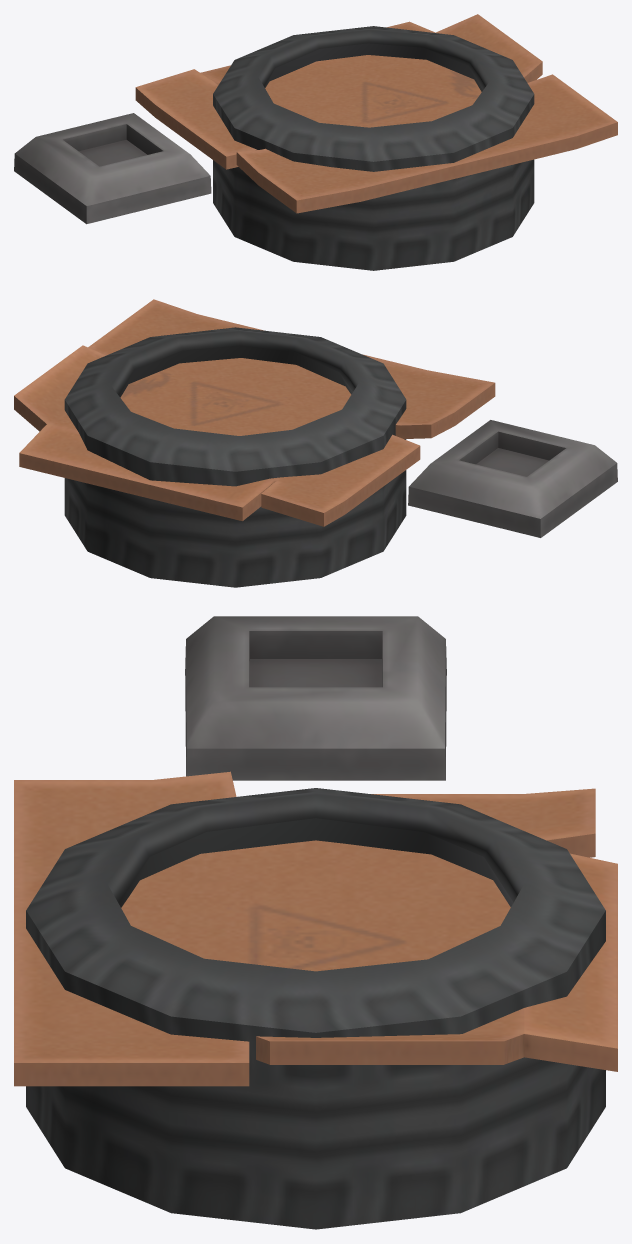
File: PetHouse.fbx
3 views of the same model, one above another, from view 1: azimuth 30°, elevation 25°; view 2: azimuth 150°, elevation 25°; view 3: azimuth 270°, elevation 25° (orthographic). The views are drawn at different scales.
Parts seen in each view (by area): view 1: Mat_Truck_02_01, Mat_PaperBox_02, Mat_Wall_01; view 2: Mat_Truck_02_01, Mat_PaperBox_02, Mat_Wall_01; view 3: Mat_Truck_02_01, Mat_PaperBox_02, Mat_Wall_01.
Boxes of the visible parts, <box> form: Mat_Truck_02_01: <box>213,26,534,270</box>; Mat_PaperBox_02: <box>135,14,617,213</box>; Mat_Wall_01: <box>14,113,211,224</box>; Mat_Truck_02_01: <box>64,327,406,587</box>; Mat_PaperBox_02: <box>14,299,495,526</box>; Mat_Wall_01: <box>408,420,617,537</box>; Mat_Truck_02_01: <box>26,788,605,1229</box>; Mat_PaperBox_02: <box>14,771,617,1086</box>; Mat_Wall_01: <box>185,616,446,780</box>.
Size of the model in its own units: 1.72 by 0.4726 by 1.03.
3 materials, 3 textured.
